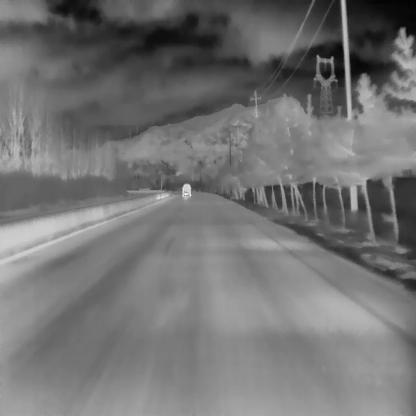car: (182, 182, 191, 197)
